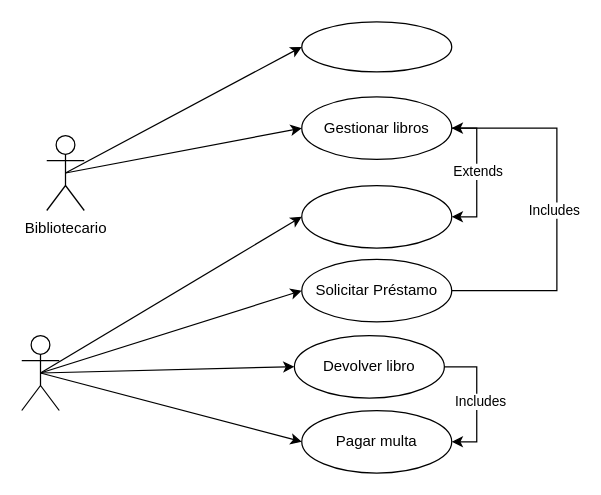
Some shapes in this 601 by 495 pixel diagram are drawn without their labels. The centre of each missing label's shape, as x and y in pixels:
Buscar libro: (376,216)
Gestionar usus: (376,46)
usu: (39,372)
